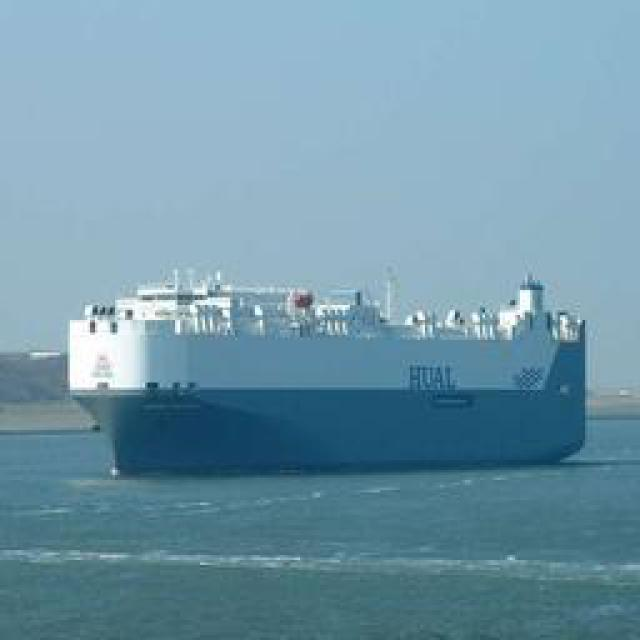Ship: (49, 245, 599, 475)
